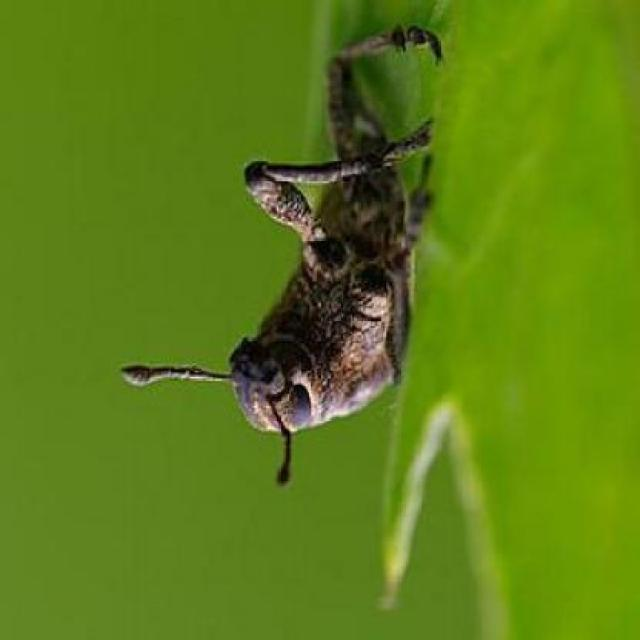rice-bug: (182, 19, 450, 461)
